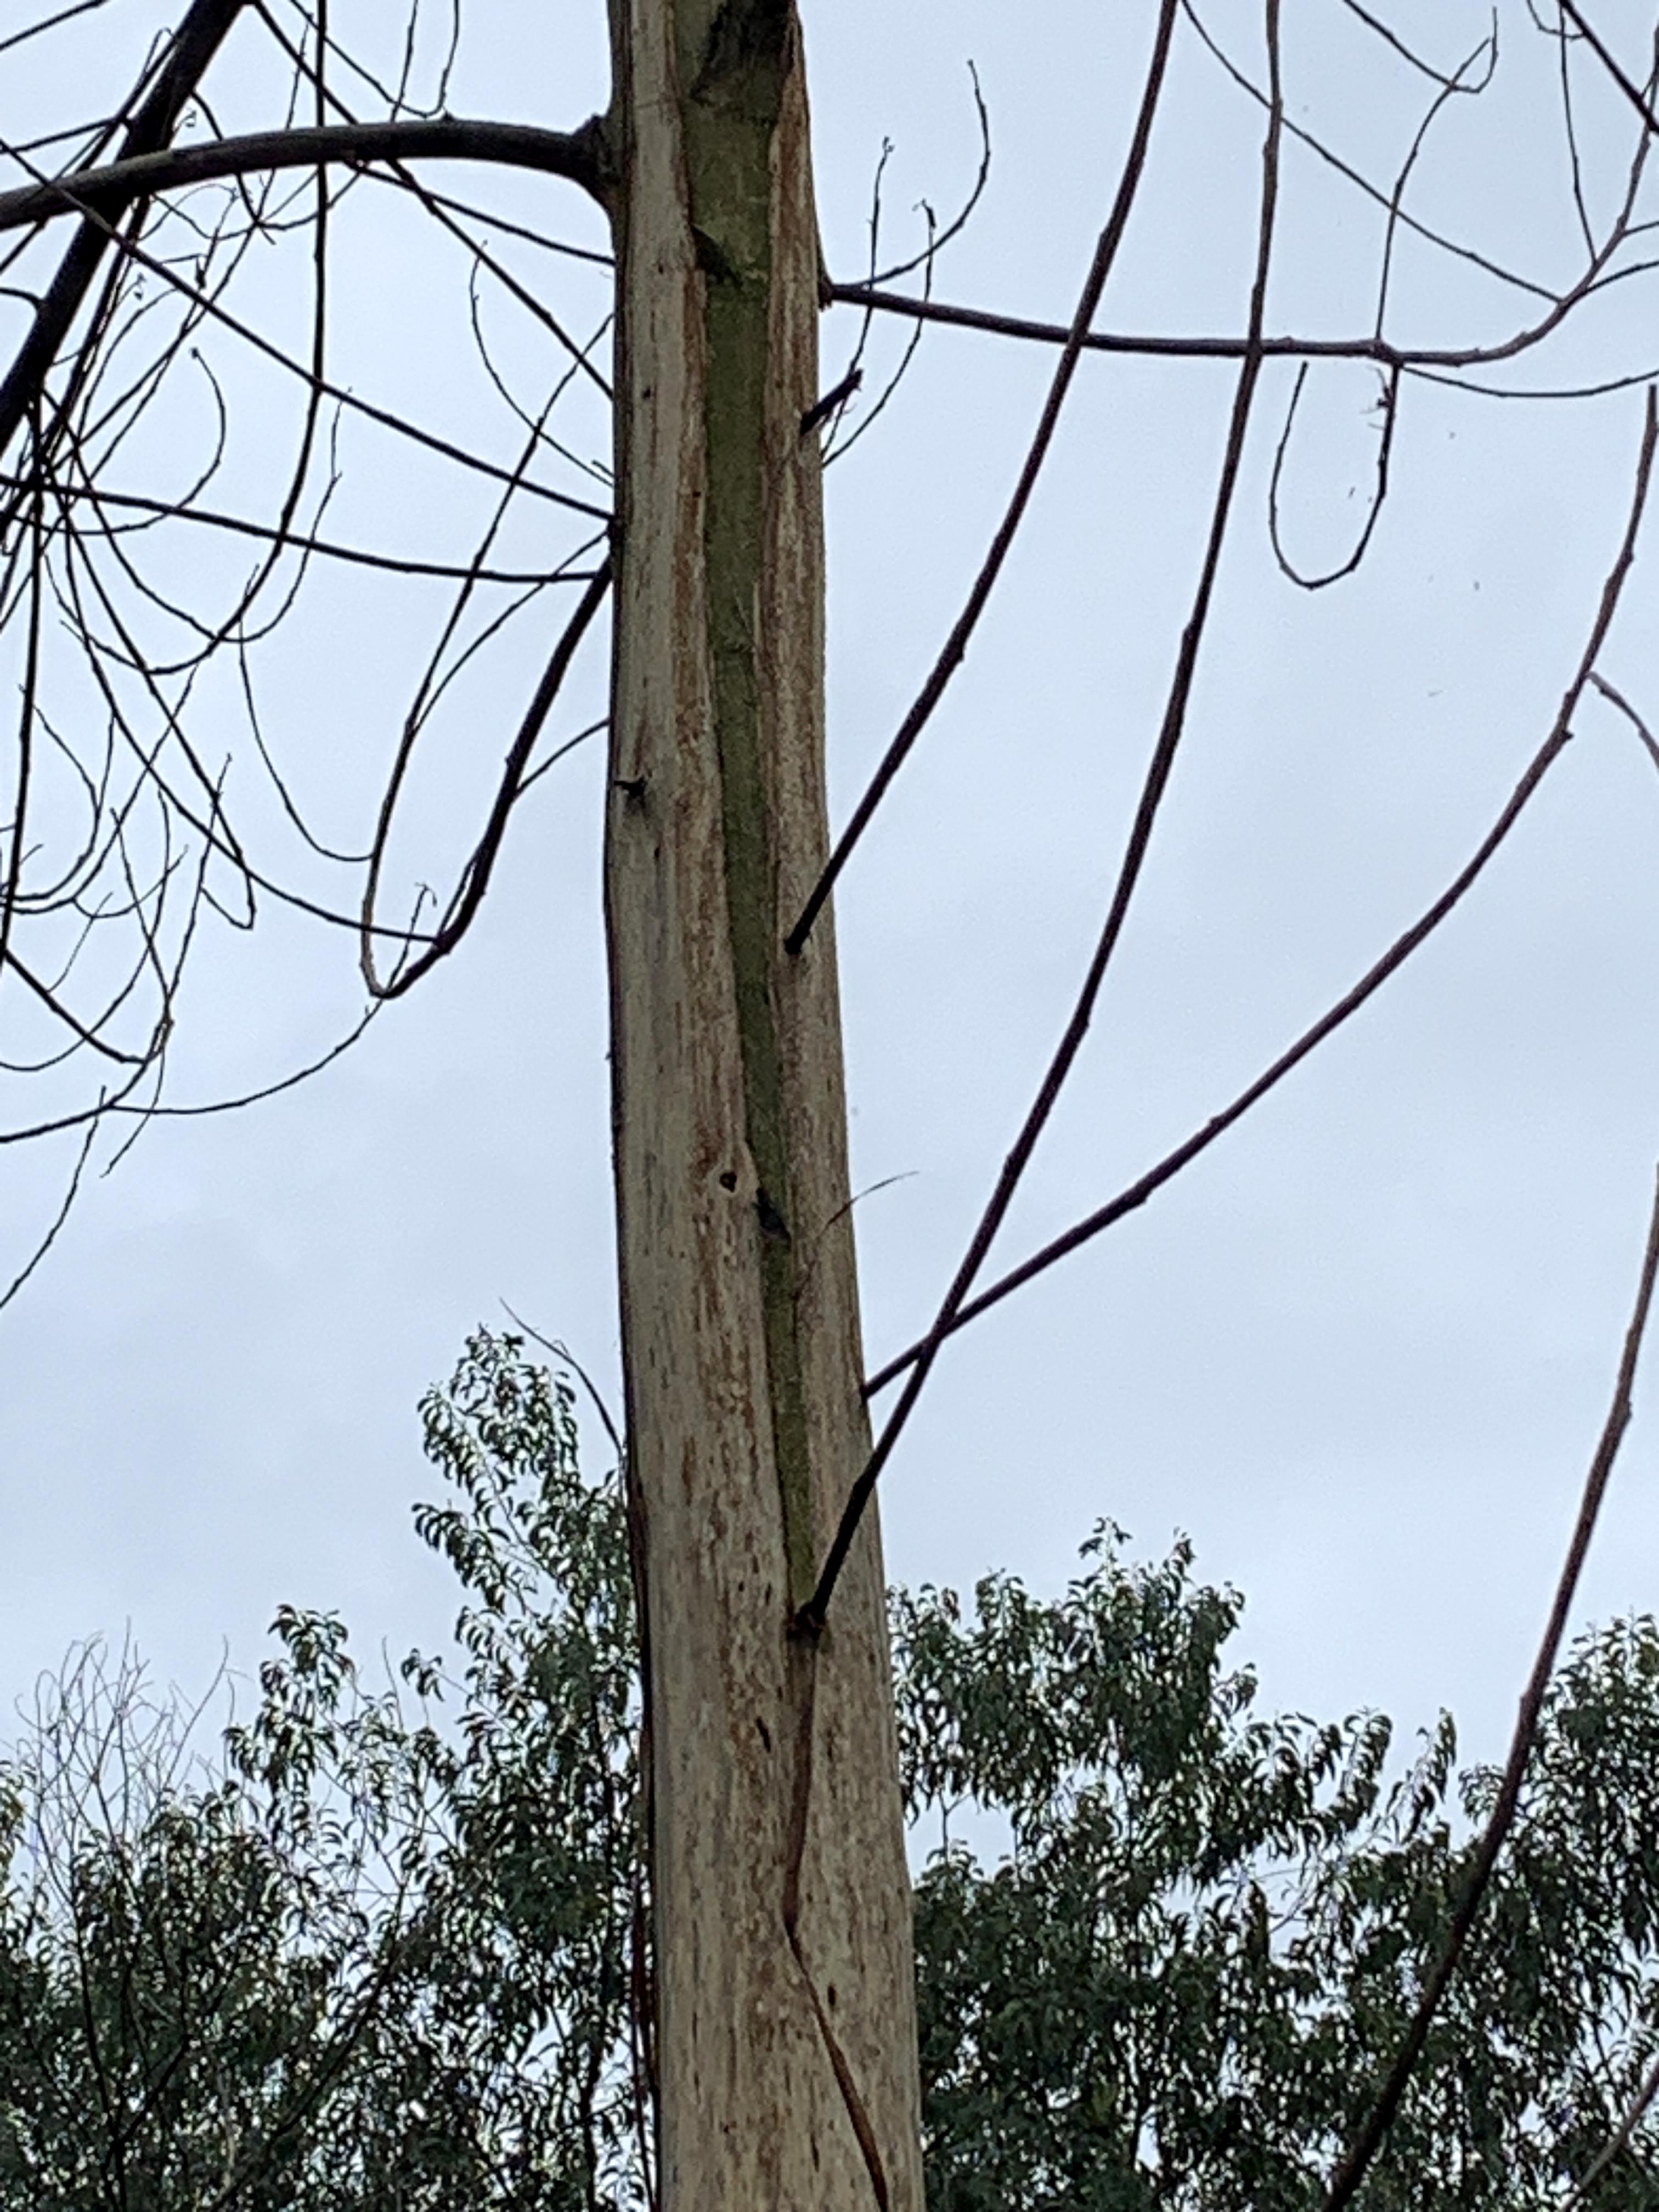Mammals Attack: (617, 89, 924, 2212)
